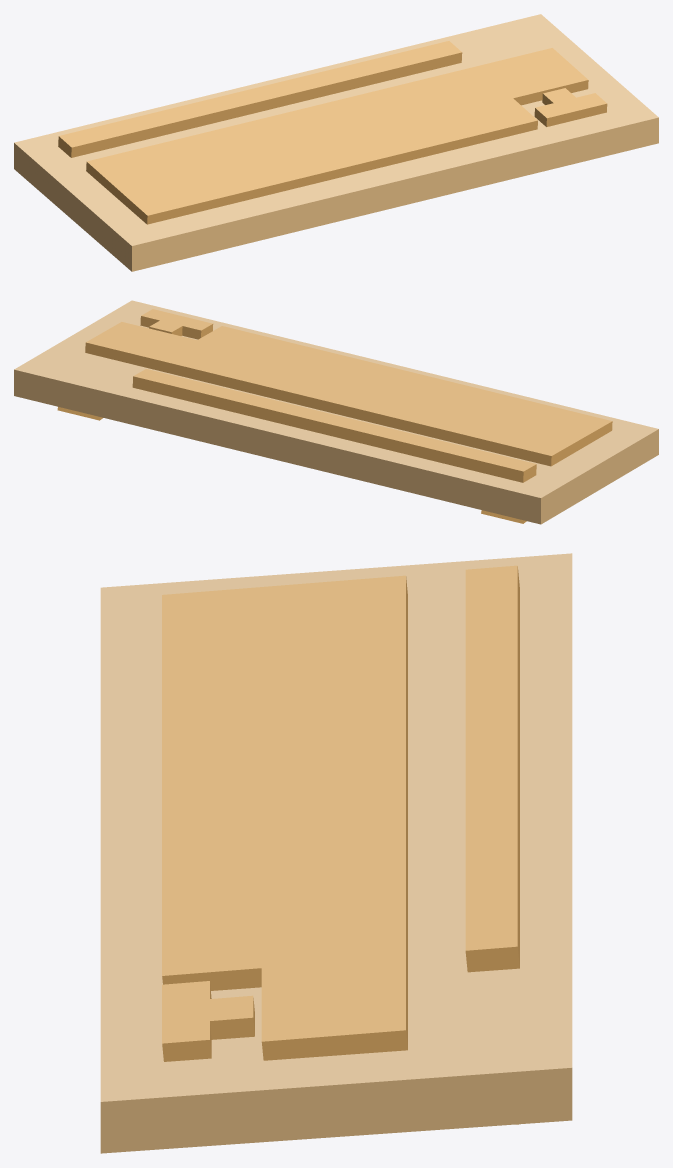
Rendered from Computer_Old_Keyboard.fbx.
3 views of the same model, one above another, from view 1: azimuth 30°, elevation 25°; view 2: azimuth 150°, elevation 25°; view 3: azimuth 270°, elevation 25° (orthographic). The views are drawn at different scales.
Parts seen in each view (by area): view 1: Computer_Old_Keyboard; view 2: Computer_Old_Keyboard; view 3: Computer_Old_Keyboard.
Part boxes in pixels (x1=…): Computer_Old_Keyboard: x1=14, y1=14, x2=658, y2=271; Computer_Old_Keyboard: x1=14, y1=300, x2=658, y2=524; Computer_Old_Keyboard: x1=100, y1=553, x2=572, y2=1153.
Bounding box in the file's own units: 43.86 × 4.15 × 17.
